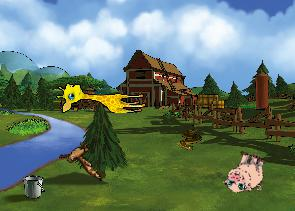eagle: (55, 137, 108, 181)
giraffe: (56, 82, 146, 113)
pig: (221, 147, 270, 198)
